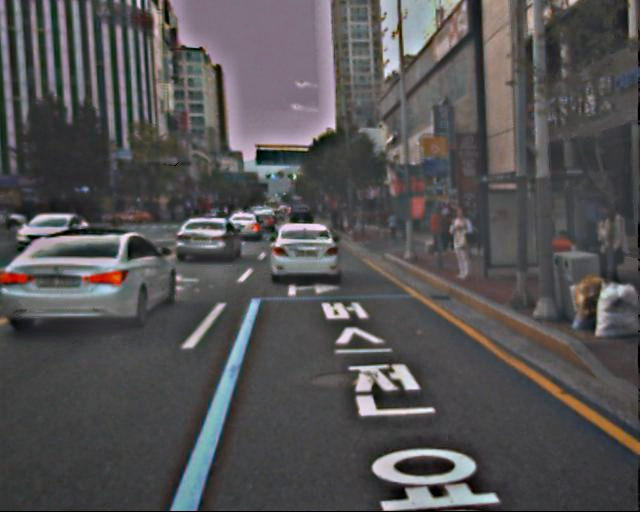person: (587, 197, 632, 307), (446, 205, 478, 284), (426, 202, 449, 259), (386, 209, 410, 239)
